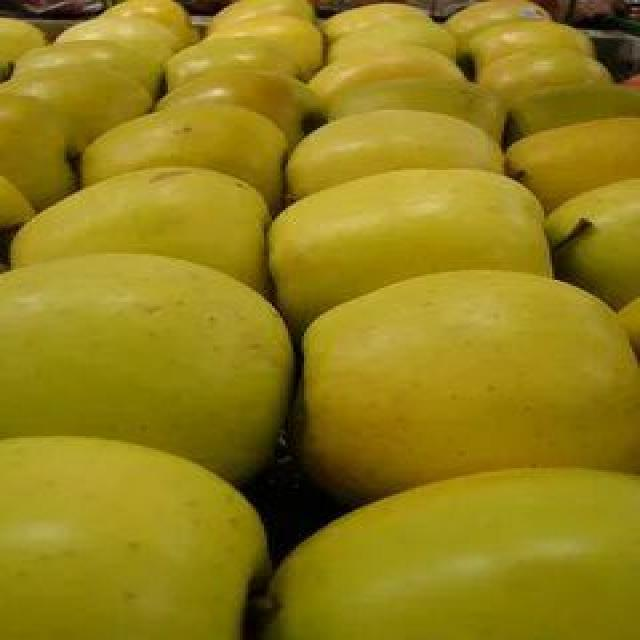Fresh Apple: (306, 283, 640, 488), (0, 270, 305, 453), (285, 486, 640, 640), (273, 178, 577, 295), (10, 175, 273, 278)
